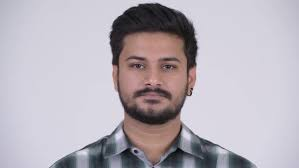Indian_Male: (124, 38, 183, 118)
